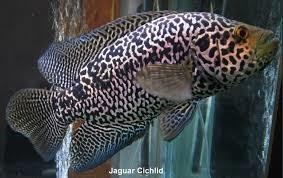Jaguar Gapote: (5, 7, 279, 172)
